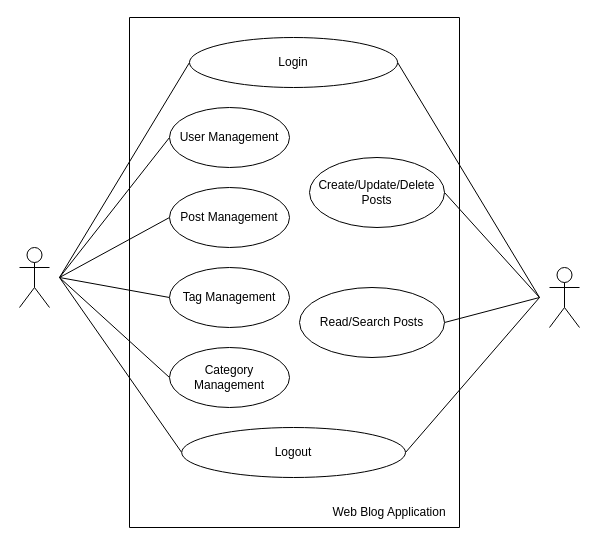
Image size: 597x545. Some labels were removed from this diagram. The shapes that lost their labels are listed below. From the top down, each one's centre as x and y in pixels, then its label:
the point at 34,277: Admin
the point at 564,297: User
